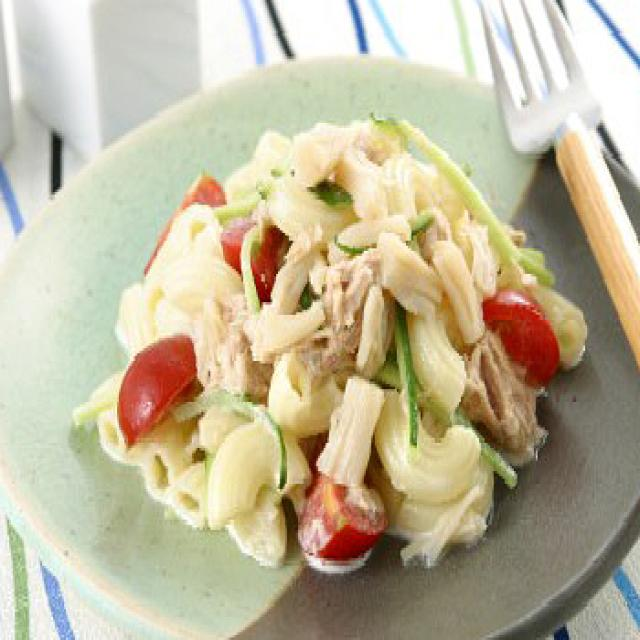蔬菜料理: (0, 33, 640, 640)
